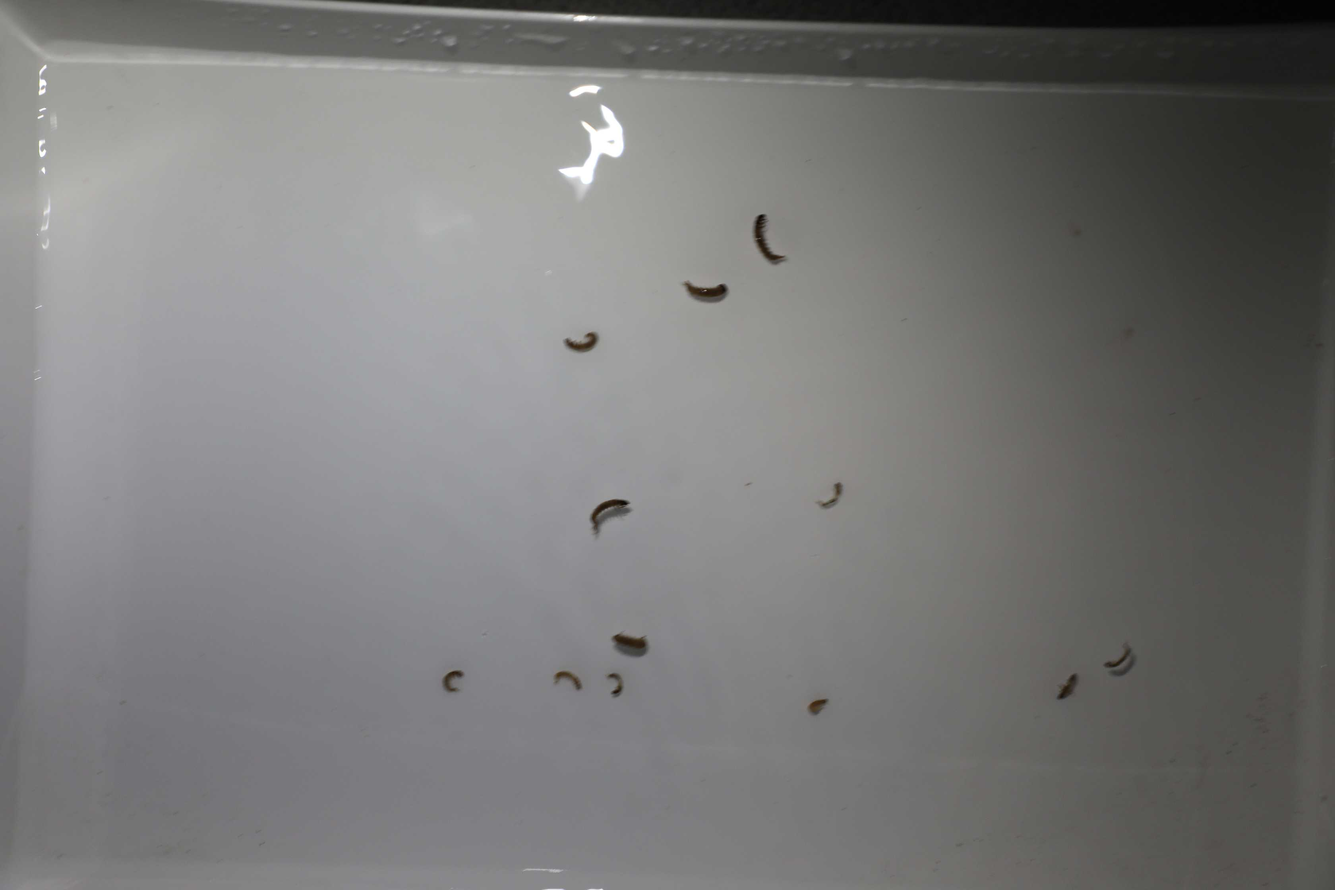Cadisfly: (745, 208, 788, 269), (585, 494, 627, 540), (674, 274, 728, 305), (603, 629, 651, 662), (1053, 662, 1082, 703), (816, 476, 849, 512), (550, 665, 586, 694), (1101, 642, 1133, 672), (556, 332, 603, 352), (438, 670, 471, 697), (601, 670, 627, 700), (802, 697, 834, 717)
